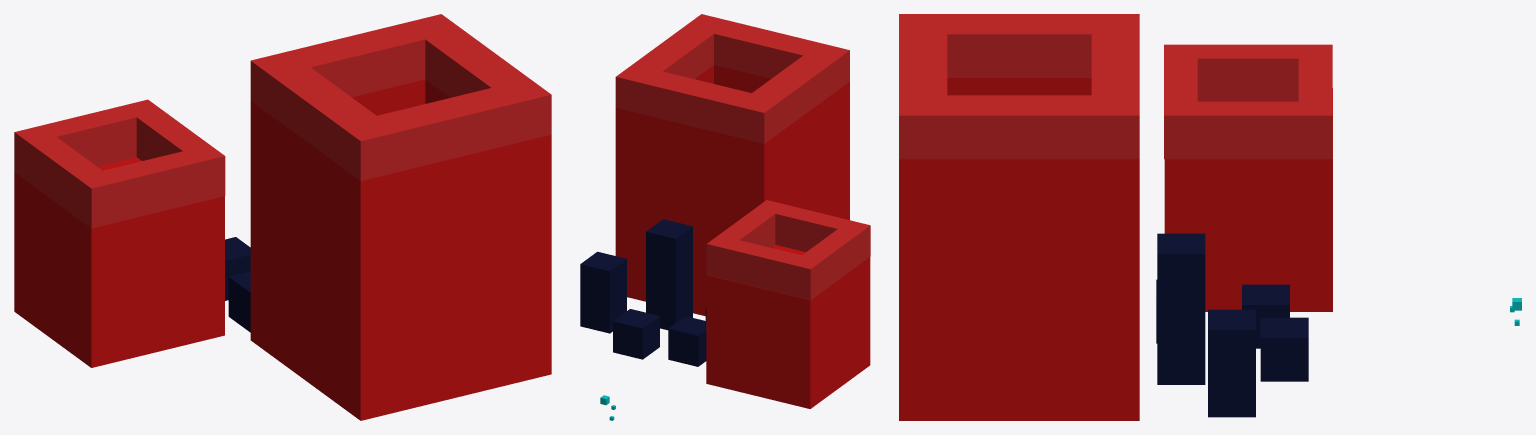
The model's file is coral_collecting.fbx.
3 views of the same model, side by side, from view 1: azimuth 30°, elevation 25°; view 2: azimuth 150°, elevation 25°; view 3: azimuth 270°, elevation 25° (orthographic). The views are drawn at different scales.
Parts seen in each view (by area): view 1: Health bubble (5), Health bubble (12), Health bubble (13), Health bubble, Health bubble (11), Health bubble (8); view 2: Health bubble (5), Health bubble (12), Health bubble (13), Health bubble, Health bubble (7), Health bubble (4), Health bubble (3), Health bubble (8); view 3: Health bubble (5), Health bubble (12), Health bubble (13), Health bubble, Health bubble (7), Health bubble (4), Health bubble (3), Health bubble (8).
Part boxes in pixels (box(x1,y1,x2,y2)): Health bubble (5): box(250, 79, 551, 420); Health bubble (12): box(250, 14, 551, 180); Health bubble (13): box(14, 157, 224, 367); Health bubble: box(14, 99, 225, 228); Health bubble (11): box(228, 271, 250, 332); Health bubble (8): box(225, 237, 250, 300); Health bubble (5): box(615, 65, 849, 316); Health bubble (12): box(615, 14, 849, 143); Health bubble (13): box(706, 245, 870, 408); Health bubble: box(706, 200, 870, 300); Health bubble (7): box(646, 219, 692, 330); Health bubble (4): box(580, 251, 626, 333); Health bubble (3): box(613, 309, 659, 359); Health bubble (8): box(668, 316, 706, 366); Health bubble (5): box(899, 78, 1139, 420); Health bubble (12): box(899, 14, 1139, 159); Health bubble (13): box(1164, 88, 1332, 311); Health bubble: box(1164, 44, 1332, 159); Health bubble (7): box(1157, 233, 1205, 384); Health bubble (4): box(1208, 309, 1255, 417); Health bubble (3): box(1260, 317, 1308, 381); Health bubble (8): box(1242, 284, 1289, 348).
Bounding box in the file's own units: 88.7 × 70.11 × 129.
